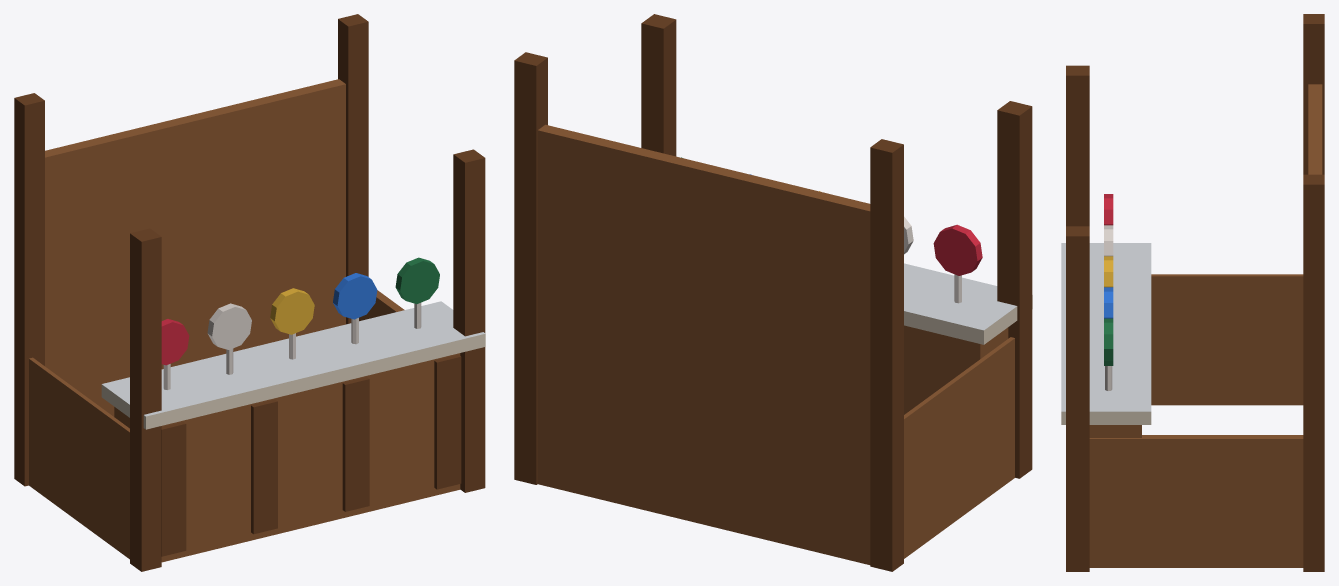
Rendered from Stall_Red_Stall.glb.
3 renders of one model, left to right at view 1: azimuth 30°, elevation 25°; view 2: azimuth 150°, elevation 25°; view 3: azimuth 270°, elevation 25°, orthographic. The views are drawn at different scales.
Parts seen in each view (by area): view 1: Stall_Red_Stall; view 2: Stall_Red_Stall; view 3: Stall_Red_Stall.
Boxes of the visible parts, <box> form: Stall_Red_Stall: <box>14,14,485,571</box>; Stall_Red_Stall: <box>514,14,1032,571</box>; Stall_Red_Stall: <box>1061,14,1324,571</box>.
Bounding box in the file's own units: 8.5 × 9 × 5.55.
